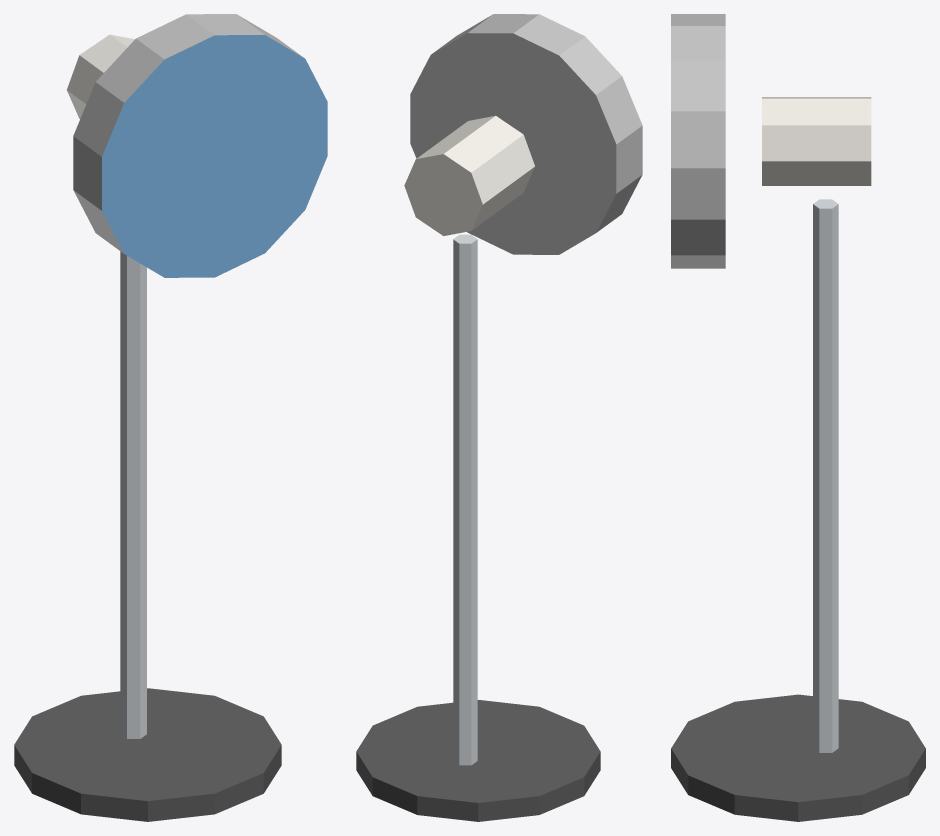
The model's file is FUR_StandingFan_Frac.fbx.
3 renders of one model, left to right at view 1: azimuth 30°, elevation 25°; view 2: azimuth 150°, elevation 25°; view 3: azimuth 270°, elevation 25°, orthographic. The views are drawn at different scales.
Parts seen in each view (by area): view 1: FUR_StandingFan_Frac_3, FUR_StandingFan_Frac_4, FUR_StandingFan_Frac_2, FUR_StandingFan_Frac_1; view 2: FUR_StandingFan_Frac_4, FUR_StandingFan_Frac_3, FUR_StandingFan_Frac_1, FUR_StandingFan_Frac_2; view 3: FUR_StandingFan_Frac_3, FUR_StandingFan_Frac_4, FUR_StandingFan_Frac_2, FUR_StandingFan_Frac_1.
Boxes of the visible parts, box(x1,y1,x2,y2) form: FUR_StandingFan_Frac_3: box(14, 600, 281, 821); FUR_StandingFan_Frac_4: box(67, 14, 318, 235); FUR_StandingFan_Frac_2: box(120, 85, 327, 374); FUR_StandingFan_Frac_1: box(73, 101, 161, 611); FUR_StandingFan_Frac_4: box(404, 14, 631, 248); FUR_StandingFan_Frac_3: box(356, 638, 600, 821); FUR_StandingFan_Frac_1: box(453, 99, 642, 661); FUR_StandingFan_Frac_2: box(410, 88, 566, 429); FUR_StandingFan_Frac_3: box(671, 616, 925, 821); FUR_StandingFan_Frac_4: box(671, 14, 871, 204); FUR_StandingFan_Frac_2: box(671, 146, 838, 411); FUR_StandingFan_Frac_1: box(813, 371, 838, 640).
Bounding box in the file's own units: 1.4 × 4.5 × 1.4.
